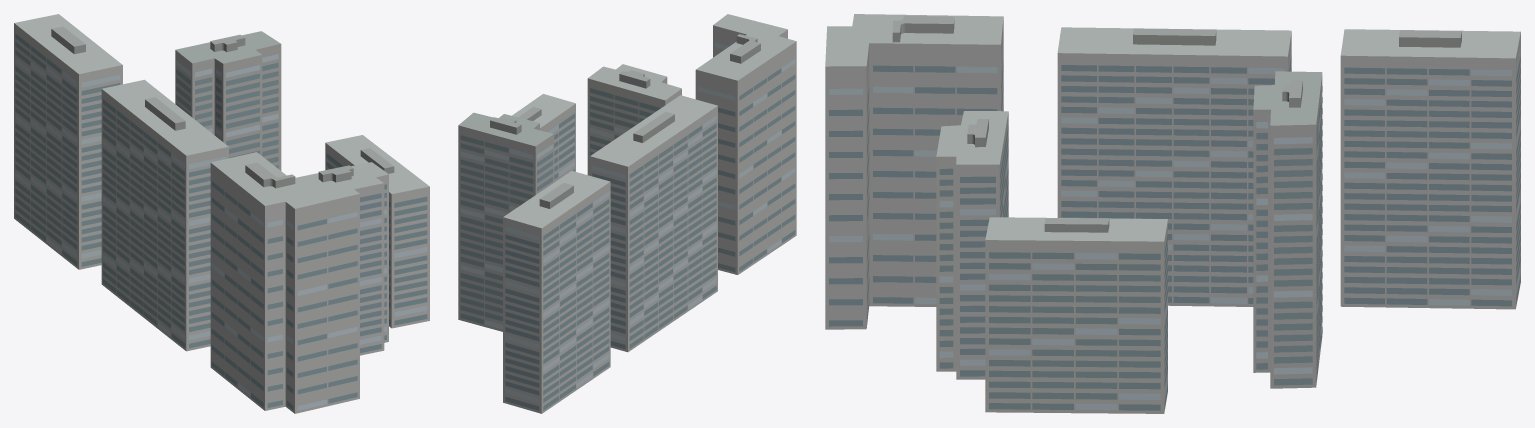
File: apt-a13187406.glb
3 views of the same model, side by side, from view 1: azimuth 30°, elevation 25°; view 2: azimuth 150°, elevation 25°; view 3: azimuth 270°, elevation 25° (orthographic). The views are drawn at different scales.
Parts seen in each view (by area): view 1: apt-a13187406; view 2: apt-a13187406; view 3: apt-a13187406.
Part boxes in pixels (x1=…): apt-a13187406: x1=14, y1=14, x2=429, y2=413; apt-a13187406: x1=458, y1=14, x2=796, y2=413; apt-a13187406: x1=825, y1=14, x2=1520, y2=413.
Size of the model in its own units: 73.25 by 68 by 157.
